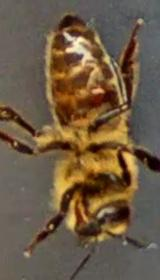varroa_mite: (81, 74, 109, 114)
